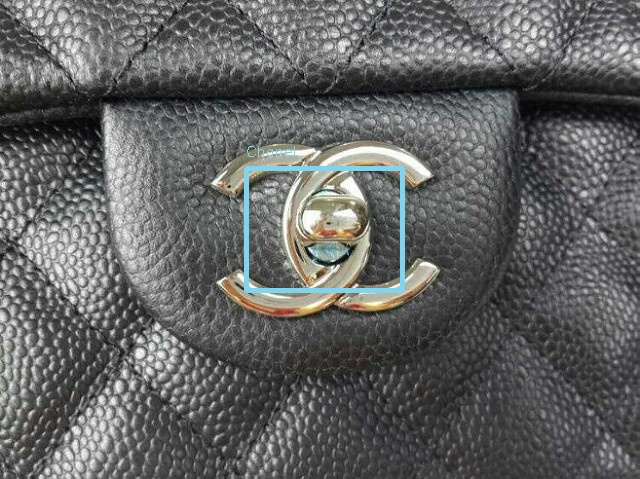Chanel: (200, 139, 444, 316)
